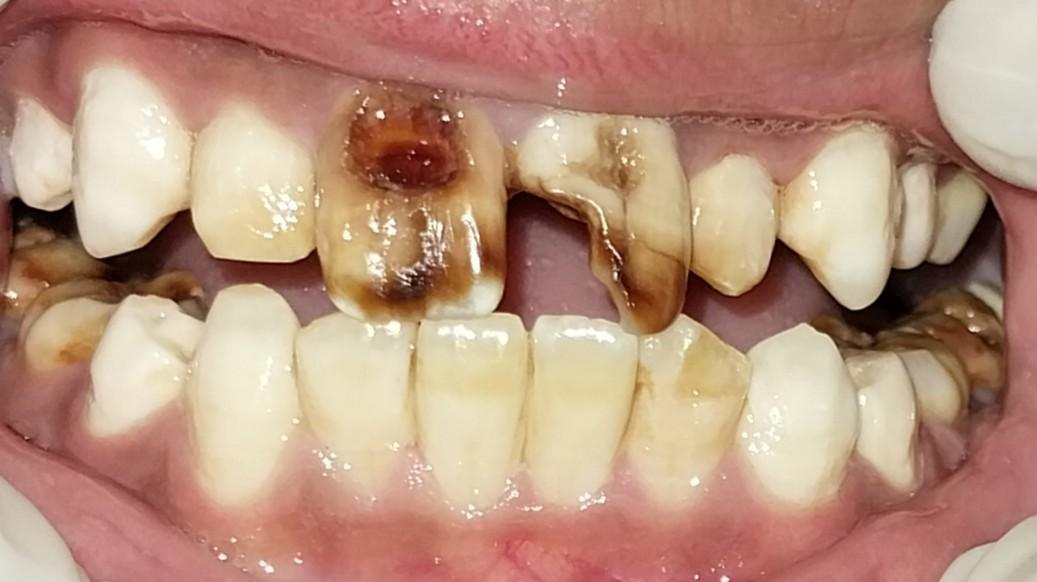D: (312, 81, 513, 323), (515, 106, 696, 327), (897, 283, 1019, 406)
